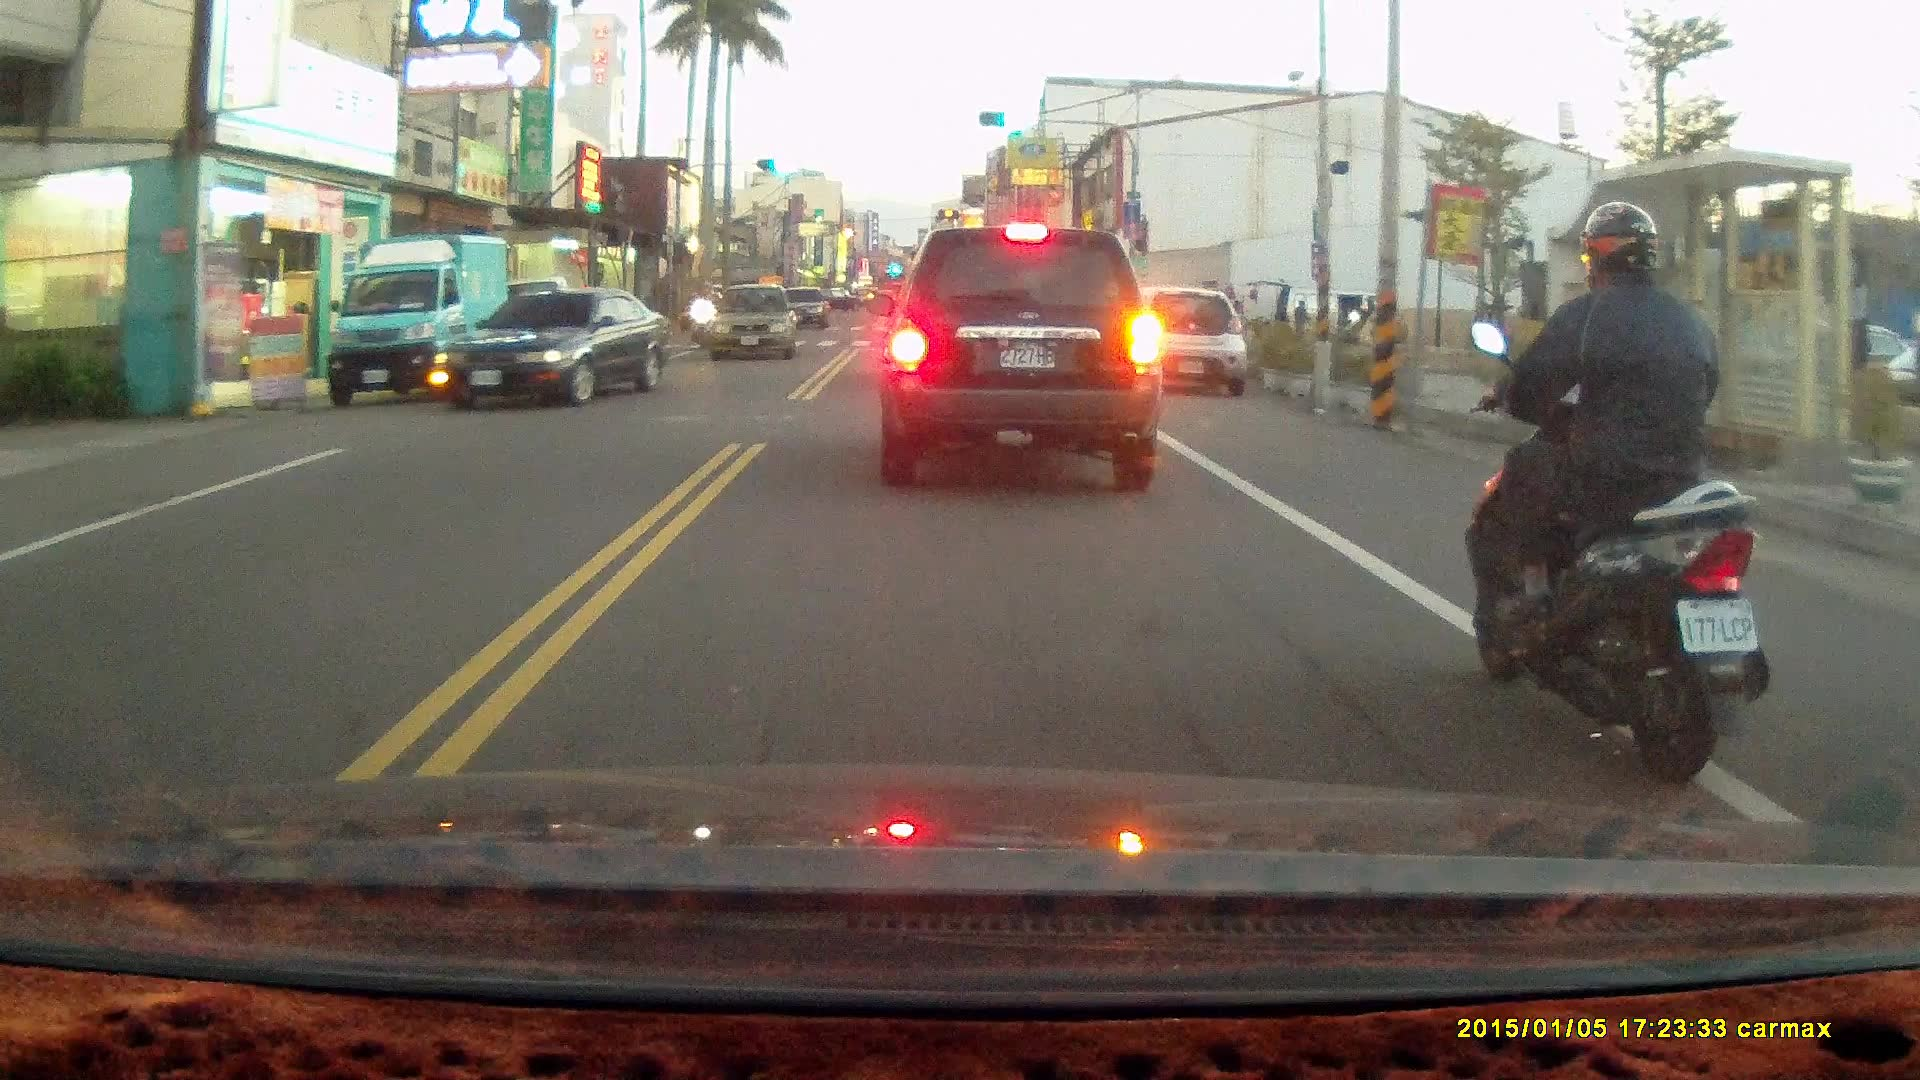rider: (1460, 202, 1767, 787), (686, 282, 719, 354)
vehicle: (876, 223, 1162, 495), (322, 231, 516, 415), (433, 290, 670, 410), (1133, 286, 1249, 402), (704, 286, 802, 366)
